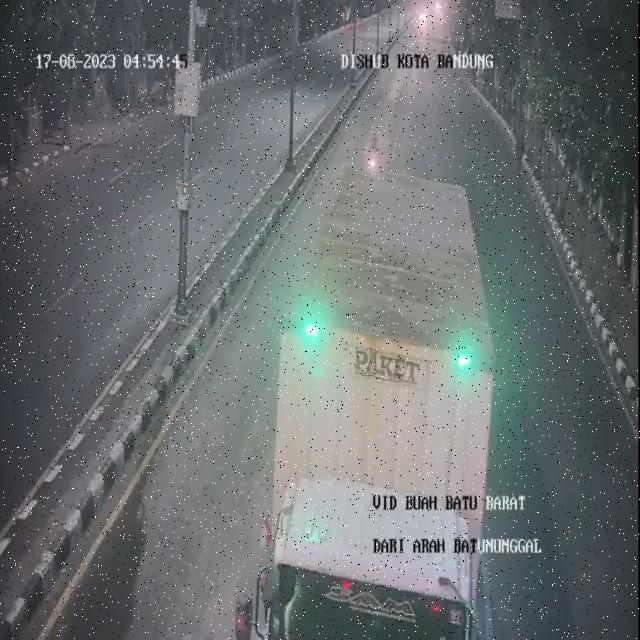motorcycle: (357, 118, 387, 175)
truck: (241, 144, 511, 640)
